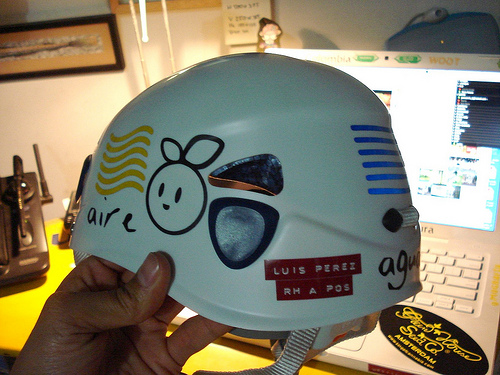helmet: (81, 57, 428, 309)
